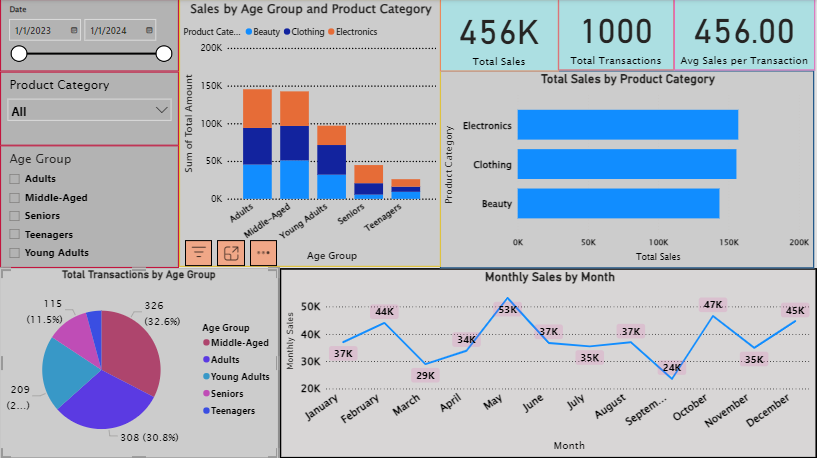

What the dashboard file says about the page in this screenshot:
{"tool":"powerbi","page":{"name":"Retail Sales Analysis","canvas":[1280,720],"ordinal":0},"visuals":[{"type":"lineChart","fields":{"Y":["retail_sales_dataset.Monthly Sales"],"Category":["retail_sales_dataset.Date.Variation.Date Hierarchy.Month","retail_sales_dataset.Date.Variation.Date Hierarchy.Day"]},"box":[438,422,842,298],"z":0},{"type":"barChart","fields":{"Y":["retail_sales_dataset.Total Sales"],"Category":["retail_sales_dataset.Product Category"]},"box":[690,112,586,310],"z":1000},{"type":"pieChart","fields":{"Category":["retail_sales_dataset.Age Group"],"Y":["retail_sales_dataset.Total Transactions"]},"box":[0,422,436,298],"z":2000},{"type":"columnChart","title":"Sales by Age Group and Product Category","fields":{"Category":["retail_sales_dataset.Age Group"],"Y":["Sum(retail_sales_dataset.Sales)"],"Series":["retail_sales_dataset.Product Category"]},"box":[280,0,410,420],"z":3000},{"type":"card","fields":{"Values":["retail_sales_dataset.Total Sales"]},"box":[690,0,186,114],"z":4000},{"type":"card","fields":{"Values":["retail_sales_dataset.Total Transactions"]},"box":[874,0,182,112],"z":5000},{"type":"card","fields":{"Values":["retail_sales_dataset.Avg Sales per Transaction"]},"box":[1055.8,0,221.2,111.5],"z":6000},{"type":"slicer","fields":{"Values":["retail_sales_dataset.Date"]},"box":[0,0,280,114],"z":7000},{"type":"slicer","fields":{"Values":["retail_sales_dataset.Product Category"]},"box":[0,114,280,116],"z":8000},{"type":"slicer","fields":{"Values":["retail_sales_dataset.Age Group"]},"box":[0,230,280,192],"z":9000}]}

Visuals, with their boxes in screenshot pixels (x1, y1, x2, y2), scaled from the page's 1280x720 canvas onto the 817x458 screenshot:
lineChart - retail_sales_dataset.Monthly Sales x retail_sales_dataset.Date.Variation.Date Hierarchy.Month: locate(280, 268, 816, 457)
barChart - retail_sales_dataset.Total Sales x retail_sales_dataset.Product Category: locate(440, 71, 814, 268)
pieChart - retail_sales_dataset.Age Group x retail_sales_dataset.Total Transactions: locate(0, 268, 278, 457)
"Sales by Age Group and Product Category" columnChart: locate(179, 0, 440, 267)
card - retail_sales_dataset.Total Sales: locate(440, 0, 559, 73)
card - retail_sales_dataset.Total Transactions: locate(558, 0, 674, 71)
card - retail_sales_dataset.Avg Sales per Transaction: locate(674, 0, 815, 71)
slicer - retail_sales_dataset.Date: locate(0, 0, 179, 73)
slicer - retail_sales_dataset.Product Category: locate(0, 73, 179, 146)
slicer - retail_sales_dataset.Age Group: locate(0, 146, 179, 268)
